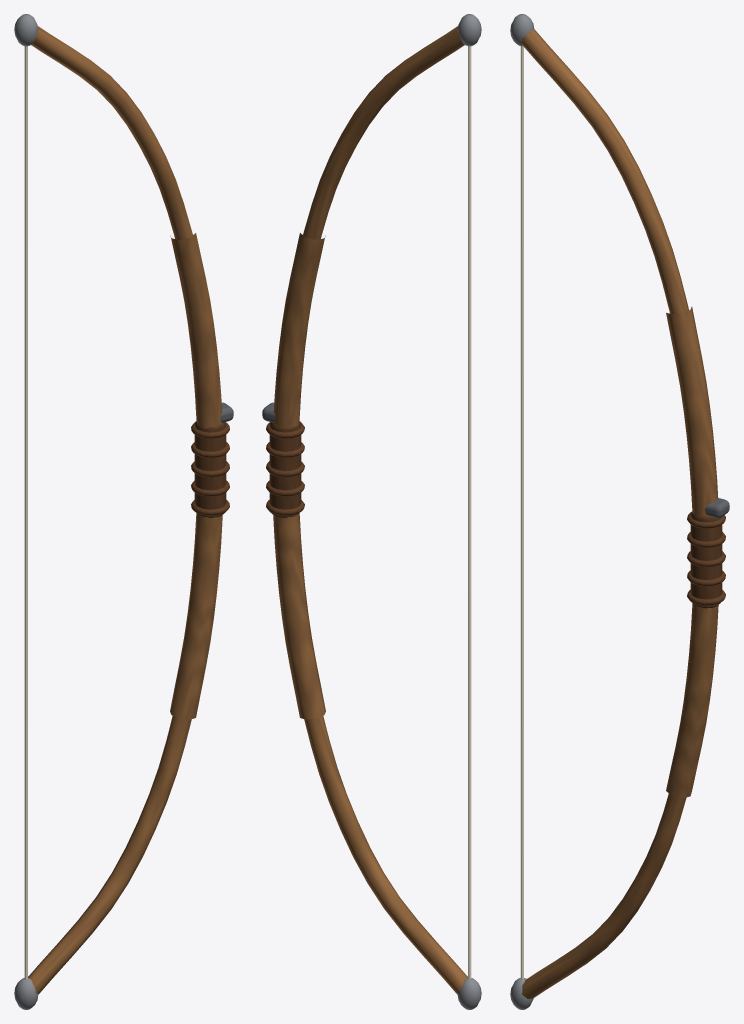
Rendered from bow.glb.
3 renders of one model, left to right at view 1: azimuth 30°, elevation 25°; view 2: azimuth 150°, elevation 25°; view 3: azimuth 330°, elevation 25°, orthographic.
Parts seen in each view (by area): view 1: limbs, bowbody, grip; view 2: limbs, bowbody, grip; view 3: limbs, bowbody, grip.
Part boxes in pixels (x1,y1,x2,y2): limbs: (28, 26, 222, 994); bowbody: (14, 14, 233, 1009); grip: (191, 421, 229, 518); limbs: (273, 26, 467, 994); bowbody: (262, 14, 481, 1009); grip: (266, 421, 304, 518); limbs: (522, 29, 718, 998); bowbody: (510, 14, 729, 1009); grip: (687, 511, 725, 608).
Size of the model in its own units: 0.326 by 1.44 by 0.0521.
5 materials, 4 textured.
